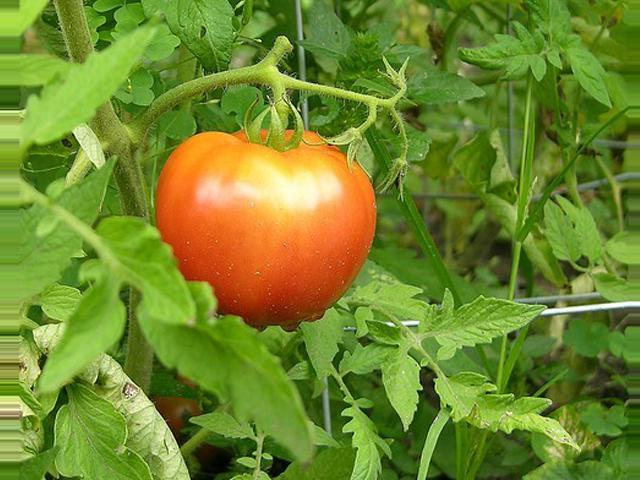tomato: (156, 127, 374, 322)
